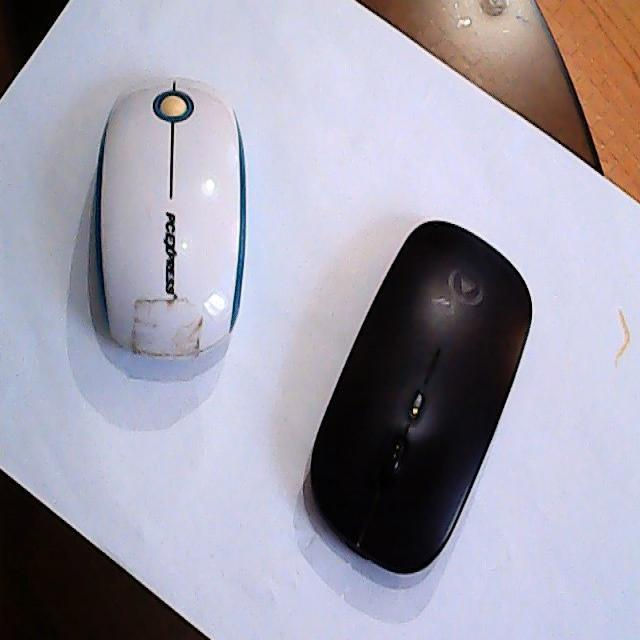Mouse: (310, 212, 538, 578), (92, 76, 248, 361)
